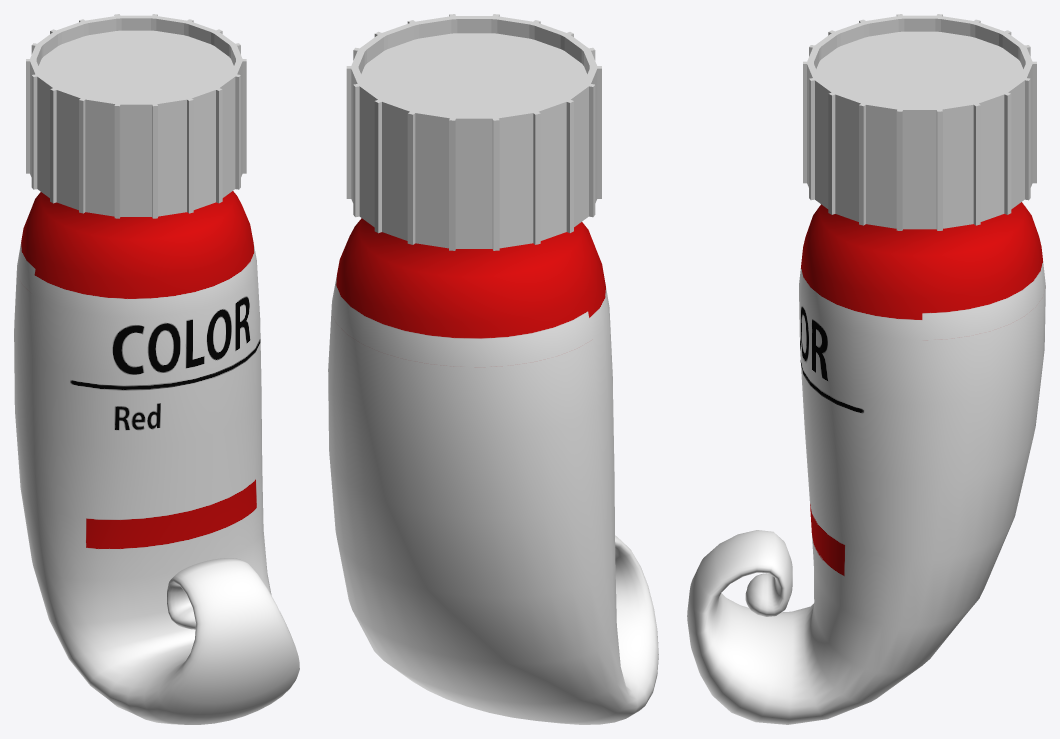
File: paint.FBX
3 views of the same model, side by side, from view 1: azimuth 30°, elevation 25°; view 2: azimuth 150°, elevation 25°; view 3: azimuth 270°, elevation 25° (orthographic). The views are drawn at different scales.
Parts seen in each view (by area): view 1: Cylinder002, Cylinder001; view 2: Cylinder002, Cylinder001; view 3: Cylinder002, Cylinder001.
Boxes of the visible parts, <box> form: Cylinder002: <box>14,191,299,724</box>; Cylinder001: <box>26,14,246,218</box>; Cylinder002: <box>328,218,658,724</box>; Cylinder001: <box>346,14,601,250</box>; Cylinder002: <box>687,202,1045,724</box>; Cylinder001: <box>803,14,1036,230</box>.
Bounding box in the file's own units: 17.71 × 45.78 × 23.35.
